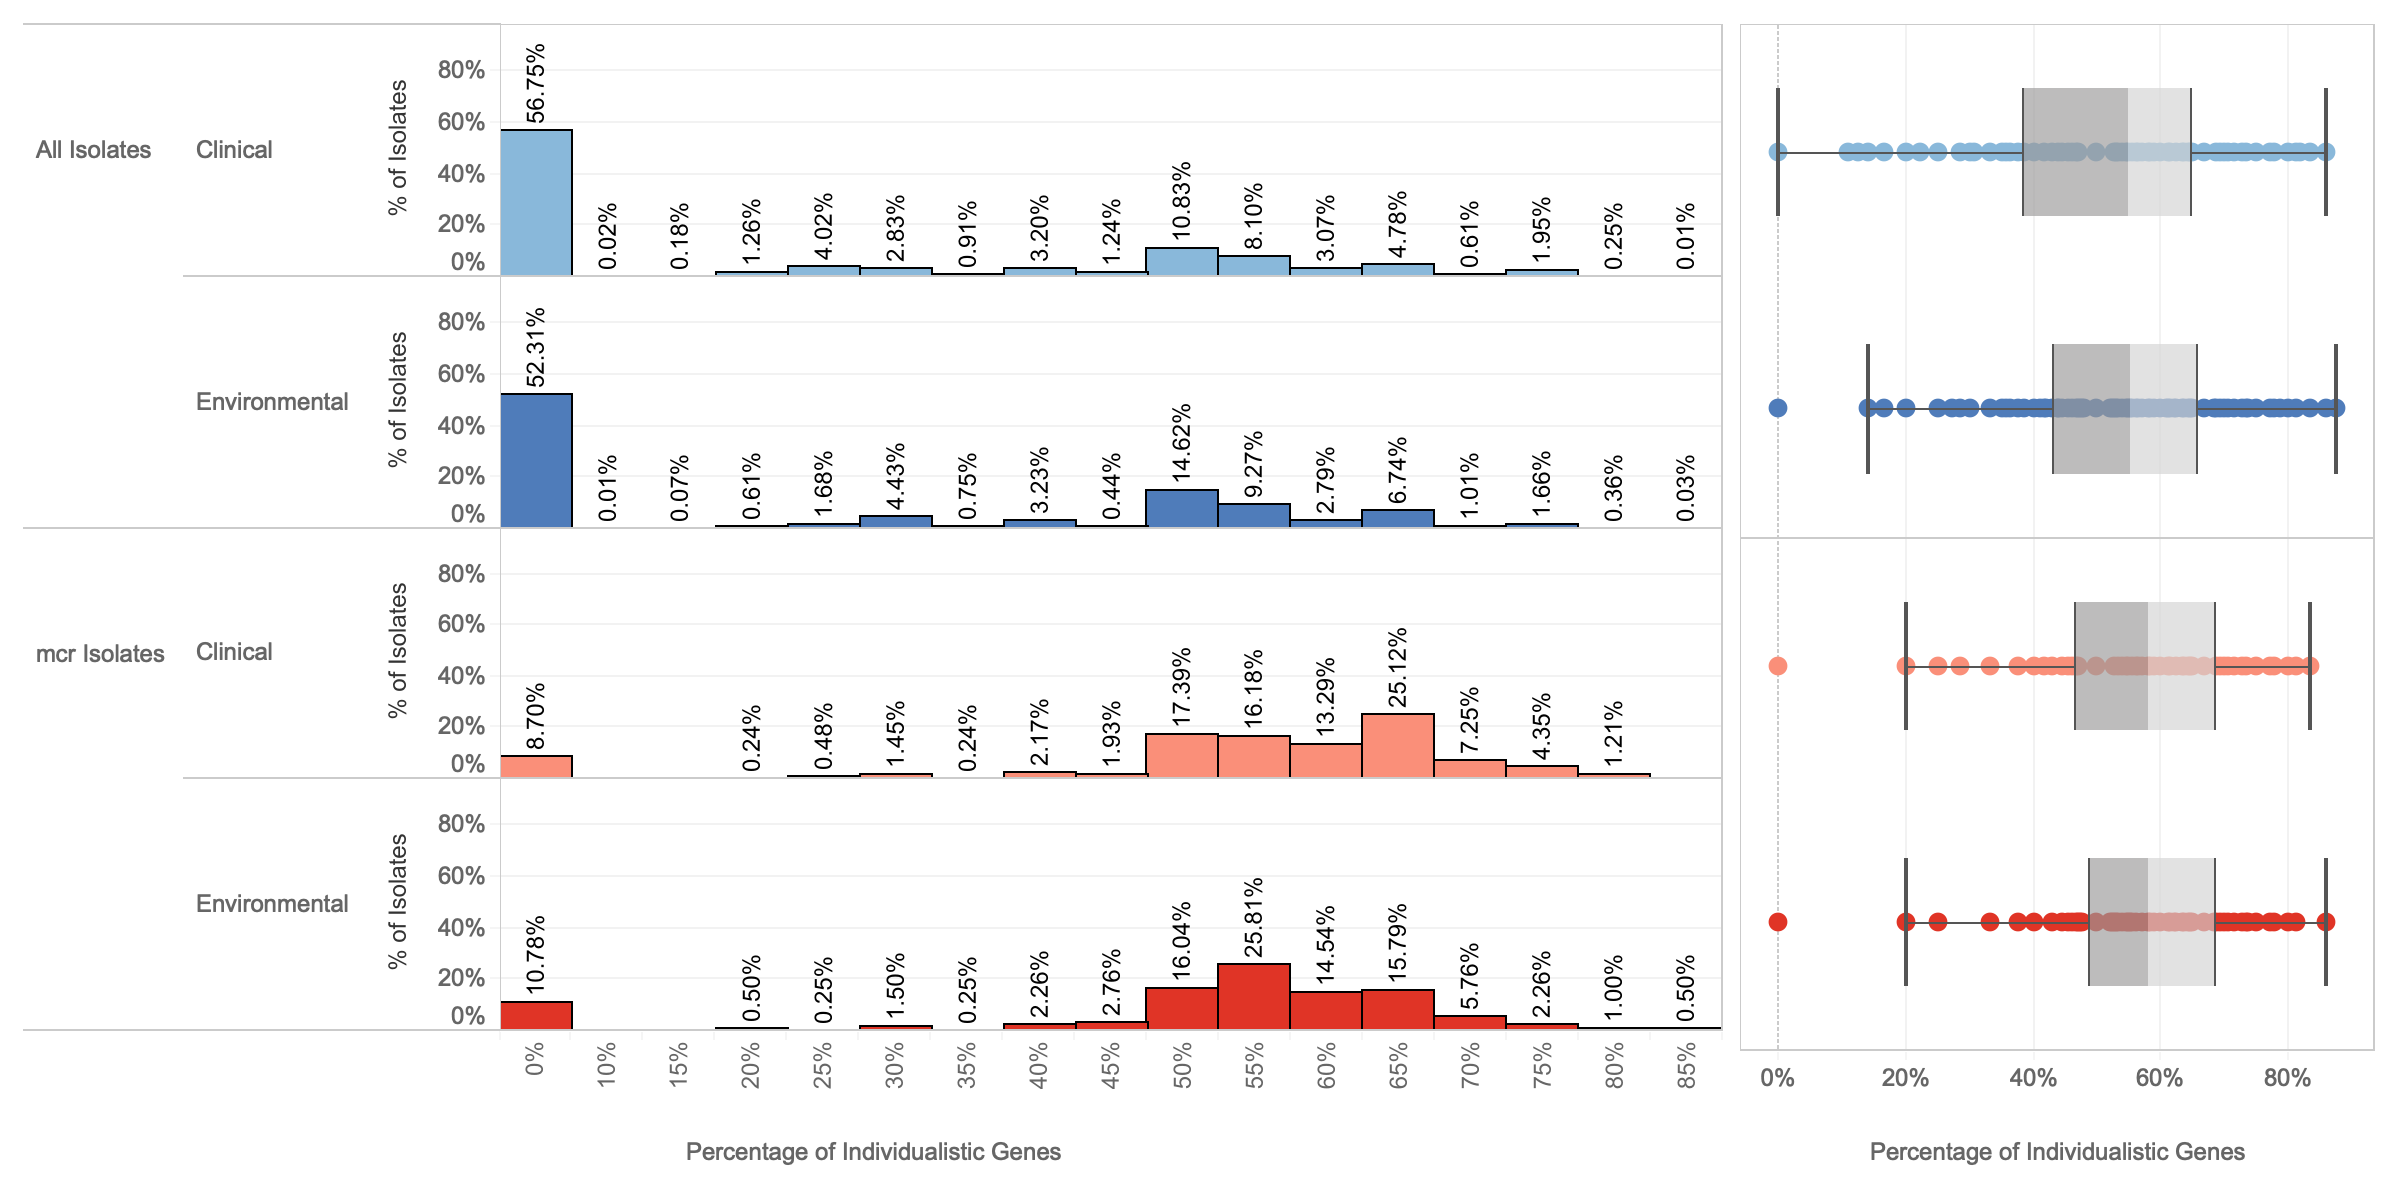

This screenshot's page, from the dashboard's own definition file:
{"tool":"tableau","page":{"name":"Dist Dashboard (with Box Plots)","canvas":[1200,600],"ordinal":4},"visuals":[{"type":"worksheet","title":"Separate Dists","mark":"Automatic","rows":["set","Number of Records","Number of Records"],"cols":["Pctself (bin)"],"box":[8,8,804.4,526.1]},{"type":"worksheet","title":"Box Plots","mark":"Circle","rows":["set"],"cols":["pctself"],"box":[812.4,8,261.6,526.1]},{"type":"worksheet","title":"clinical vs. environmental","mark":"Pie","rows":["set"],"box":[1074,8,118,526.1]},{"type":"text","box":[8,534.1,803.8,57.9]},{"type":"text","box":[811.8,534.1,262.2,57.9]},{"type":"legend","title":"clinical vs. environmental","param":"[federated.1um8y1q171a0lx16uxssl07zzi9z].[none:isolation_type:nk]","box":[1074,534.1,118,57.9]}]}

Visuals, with their boxes in screenshot pixels (x1, y1, x2, y2), scaled from the page's 1200x600 canvas onto the 2400x1200 screenshot:
"Separate Dists" worksheet: pyautogui.locateOnScreen(16, 16, 1625, 1068)
"Box Plots" worksheet (Circle marks): pyautogui.locateOnScreen(1625, 16, 2148, 1068)
"clinical vs. environmental" worksheet (Pie marks): pyautogui.locateOnScreen(2148, 16, 2384, 1068)
text: pyautogui.locateOnScreen(16, 1068, 1624, 1184)
text: pyautogui.locateOnScreen(1624, 1068, 2148, 1184)
"clinical vs. environmental" legend: pyautogui.locateOnScreen(2148, 1068, 2384, 1184)
